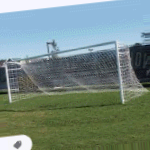goals: (2, 40, 148, 106)
